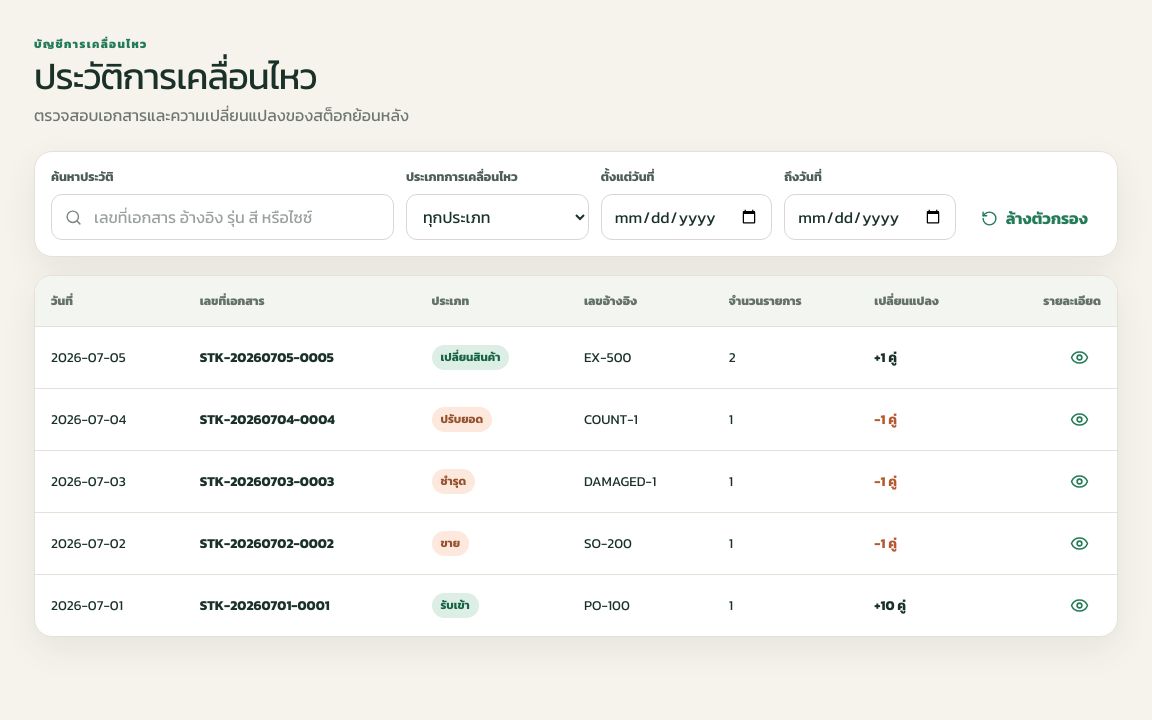
Scenario: HistoryPage › opens immutable document details with every joined signed line
This screenshot has width=1152, height=720.
Expected: the table named "ประวัติการเคลื่อนไหวสต็อก" is shown, [35,276,1117,636]
Click the button named "ดูรายละเอียด STK-20260705-0005" at x=1079, y=357, box [1057,335,1101,379]
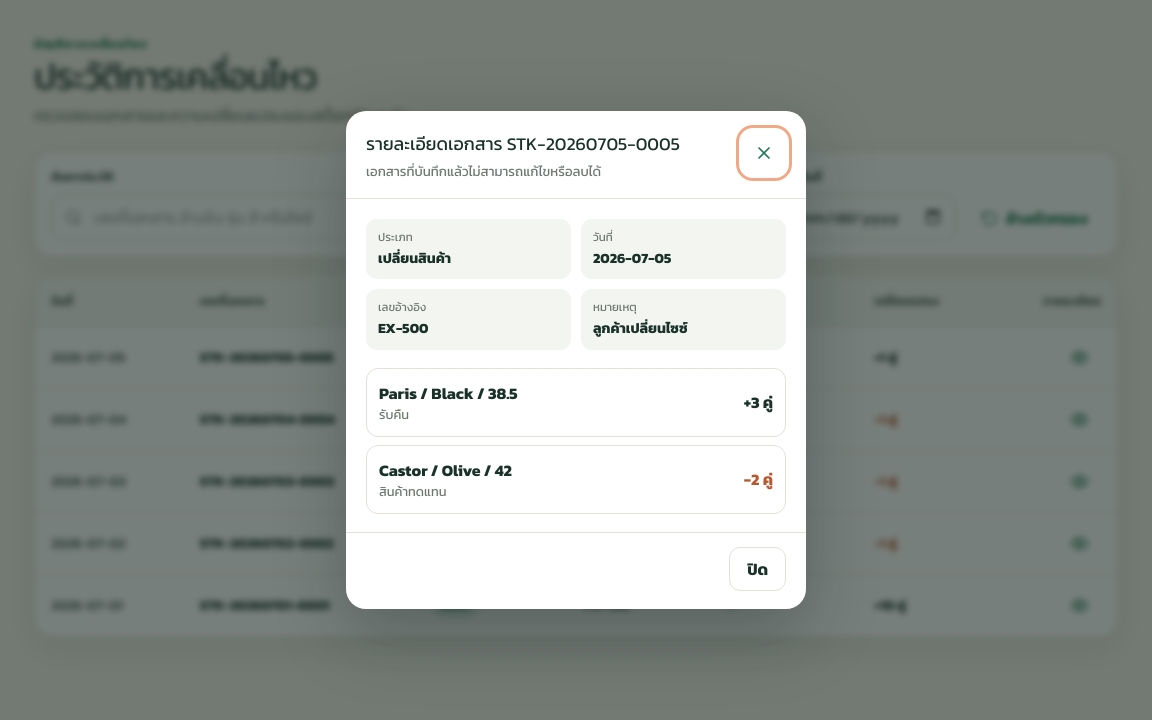
Now the text "Paris / Black / 38.5" is shown, box [379,381,518,405]
Now the text "+3 คู่" is shown, box [744,390,773,414]
Now the text "Castor / Olive / 42" is shown, box [379,458,512,482]
